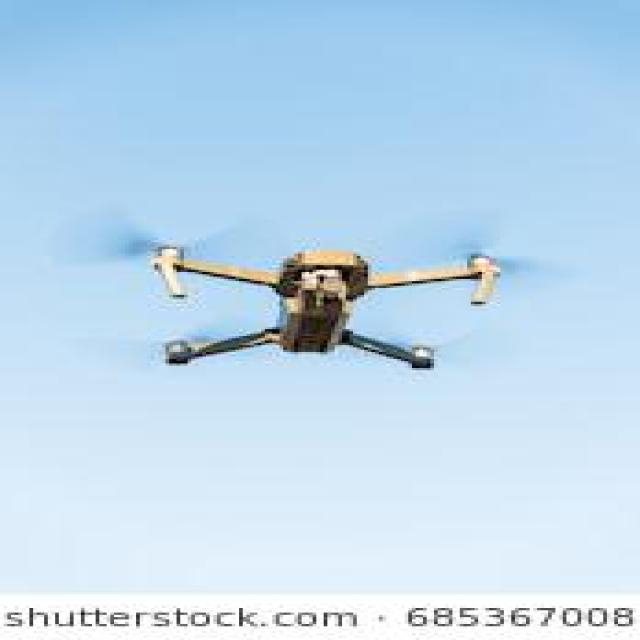drone: (63, 142, 558, 440)
